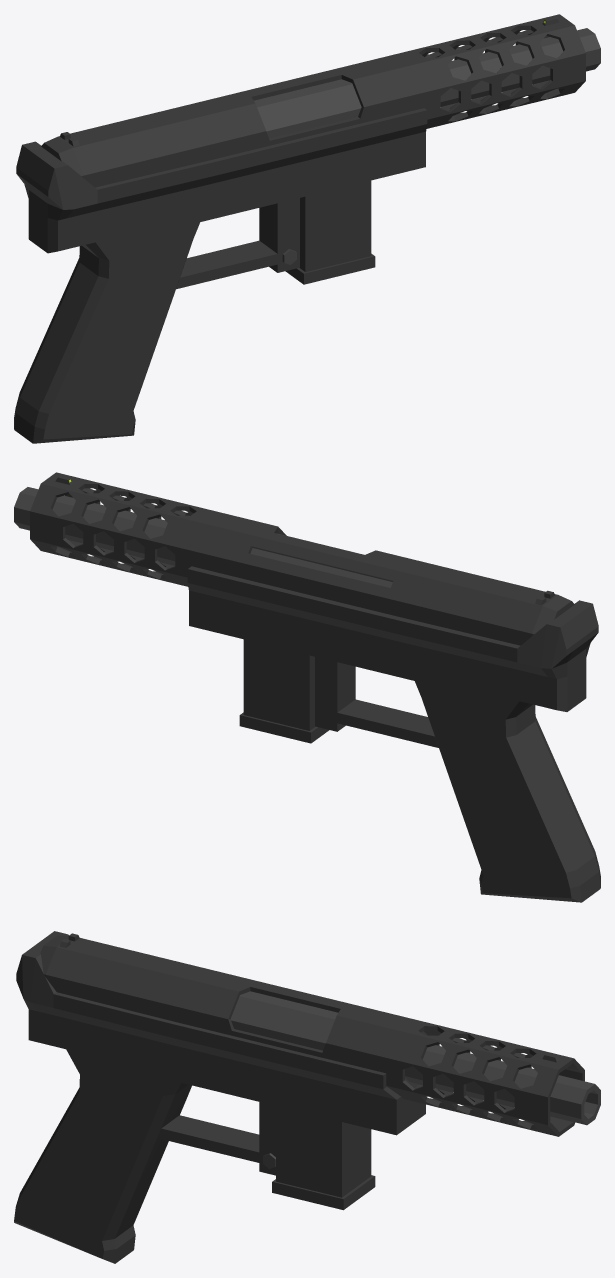
Rendered from Pistol6_01.fbx.
3 renders of one model, top to bottom at view 1: azimuth 30°, elevation 25°; view 2: azimuth 150°, elevation 25°; view 3: azimuth 330°, elevation 25°, orthographic.
Parts seen in each view (by area): view 1: Pistol6_01; view 2: Pistol6_01; view 3: Pistol6_01.
Part boxes in pixels (x1=…): Pistol6_01: x1=14, y1=14, x2=600, y2=443; Pistol6_01: x1=14, y1=472, x2=600, y2=902; Pistol6_01: x1=14, y1=931, x2=600, y2=1263.
Bounding box in the file's own units: 0.3373 × 0.1735 × 0.0451.
